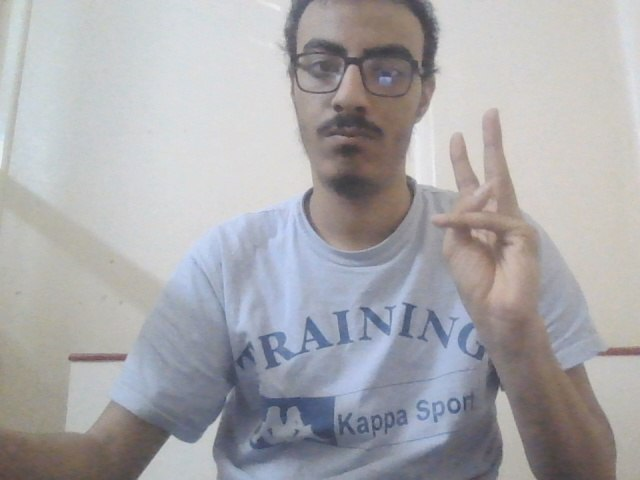Water: (429, 106, 552, 332)
